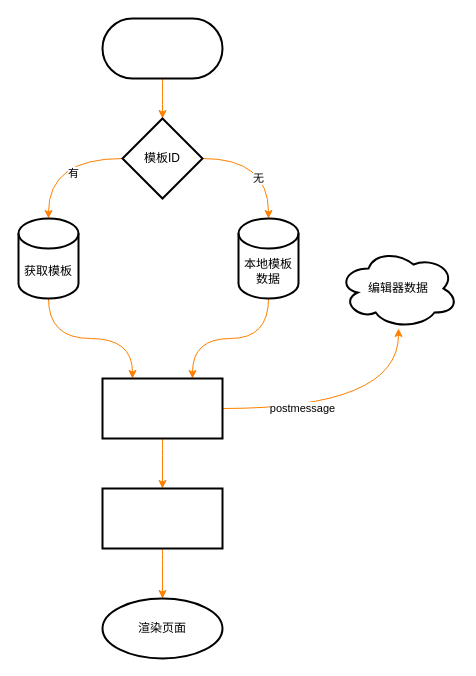
This 476x676 diagram has some shape labels left out. Each missing label, with the centre of its shape:
初始化页面配置: the point at 162,518
数据处理 （发布/解析）: the point at 162,408
进入: the point at 162,48
